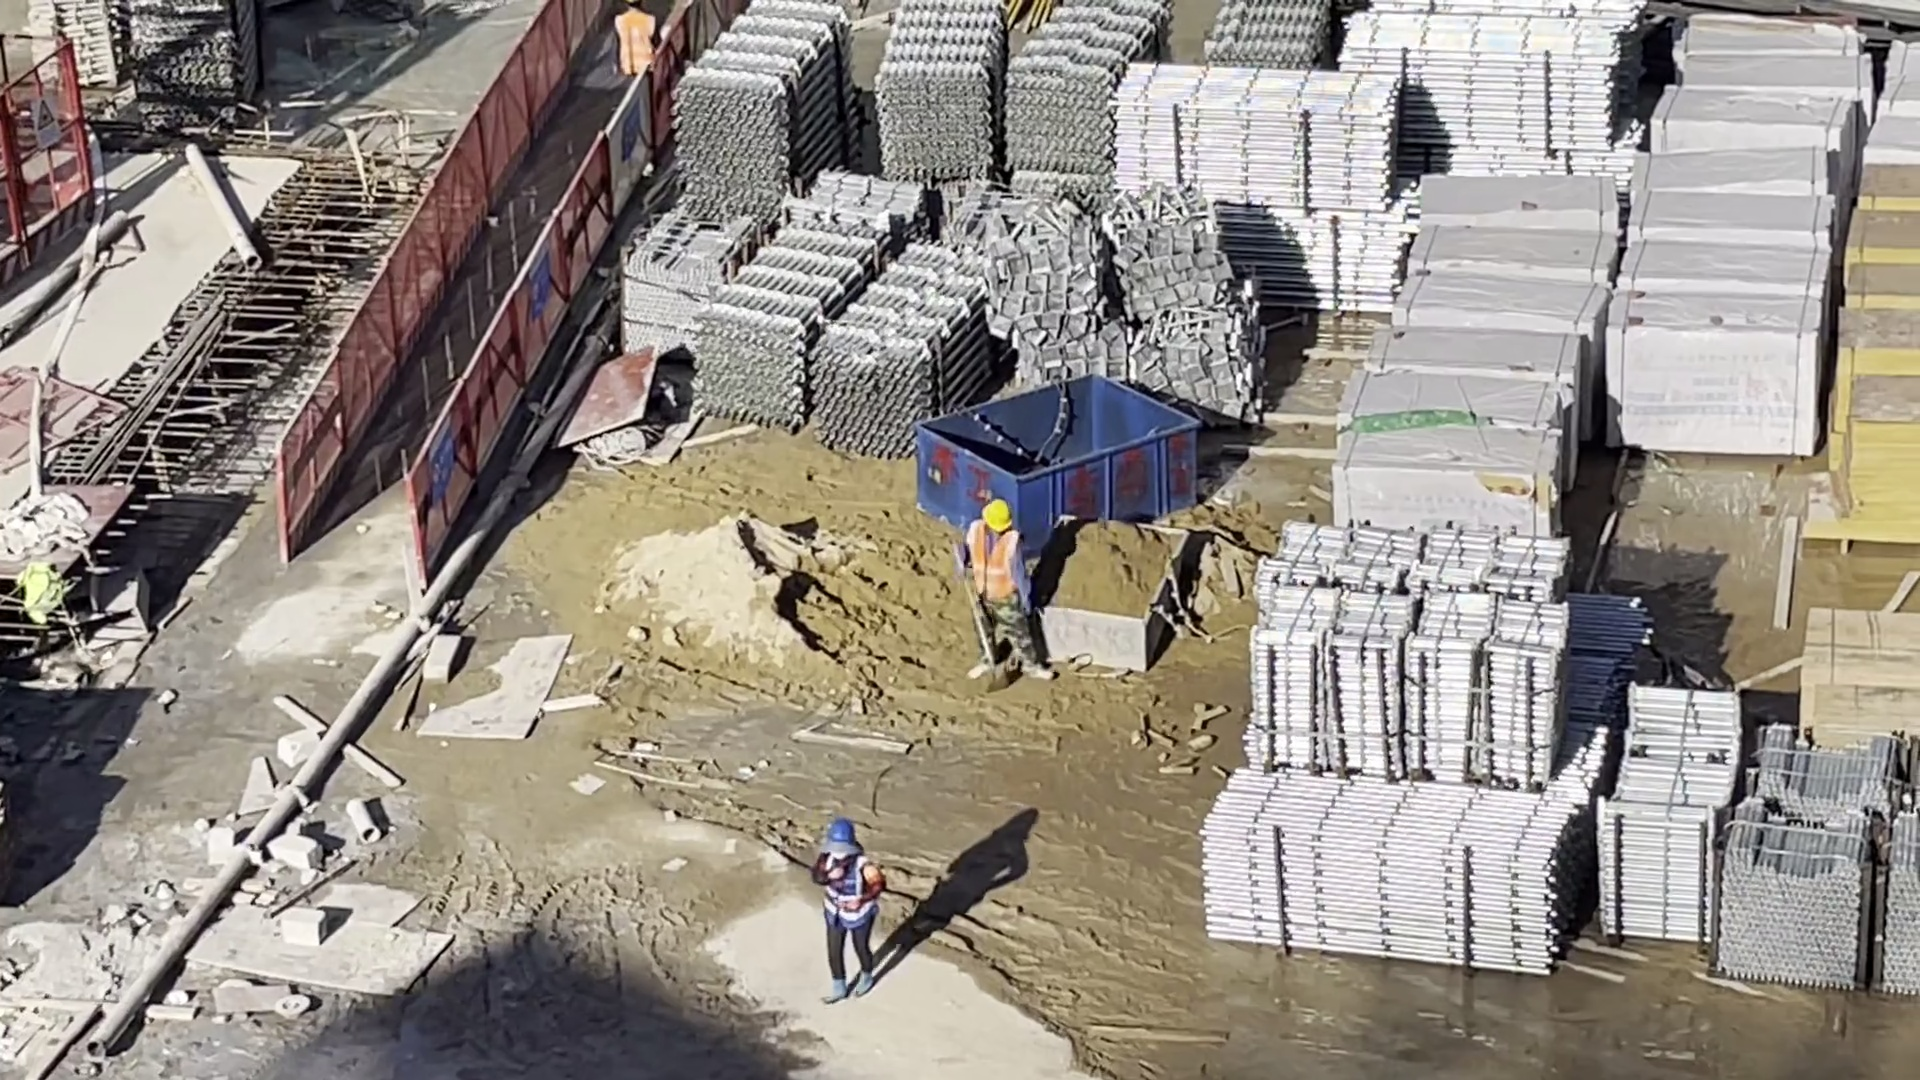board: (1840, 168, 1920, 532), (1793, 610, 1920, 733)
fence: (290, 18, 662, 537)
helmet: (982, 498, 1013, 532), (827, 821, 857, 846)
hopper: (913, 372, 1196, 547), (1027, 511, 1190, 670)
person: (962, 499, 1044, 688), (816, 822, 878, 1004), (609, 1, 667, 85)
scaffold: (1252, 518, 1563, 784), (1204, 766, 1575, 983), (1106, 58, 1398, 300), (696, 222, 993, 441), (1708, 730, 1920, 987), (875, 1, 1167, 184), (1342, 11, 1629, 156), (673, 1, 850, 207), (1598, 681, 1736, 924), (133, 1, 264, 130), (22, 1, 120, 96), (1203, 1, 1332, 57)
slogan: (428, 426, 454, 506), (529, 241, 550, 323)
vest: (971, 523, 1016, 595), (609, 11, 661, 72), (828, 865, 874, 926)
